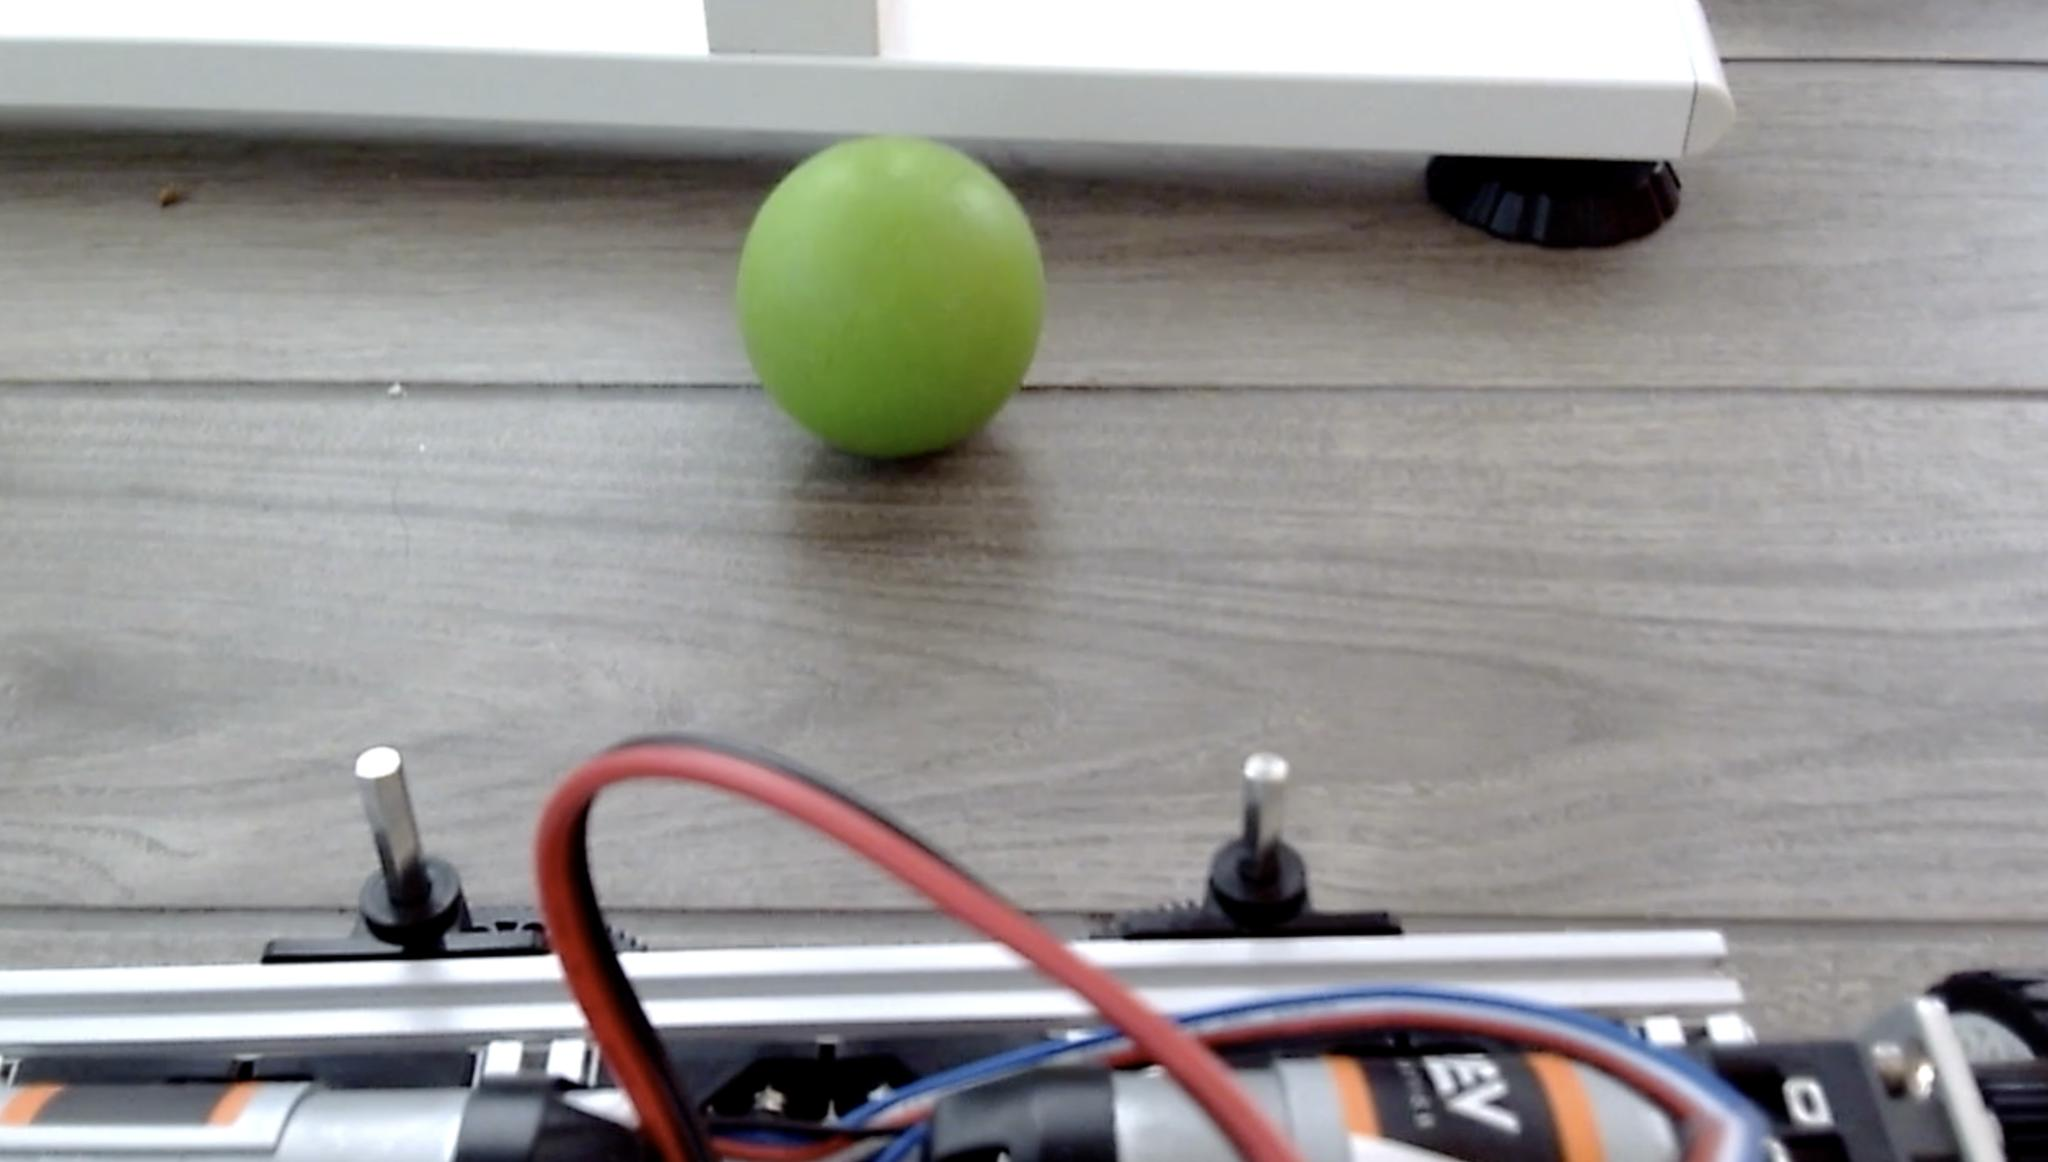greenball: (731, 131, 1048, 461)
